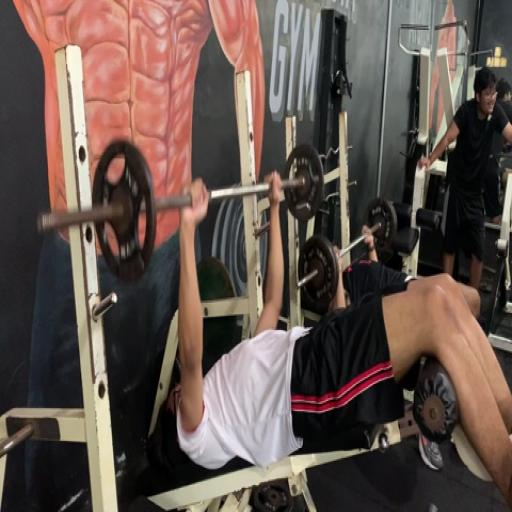exercise: (168, 169, 511, 511)
